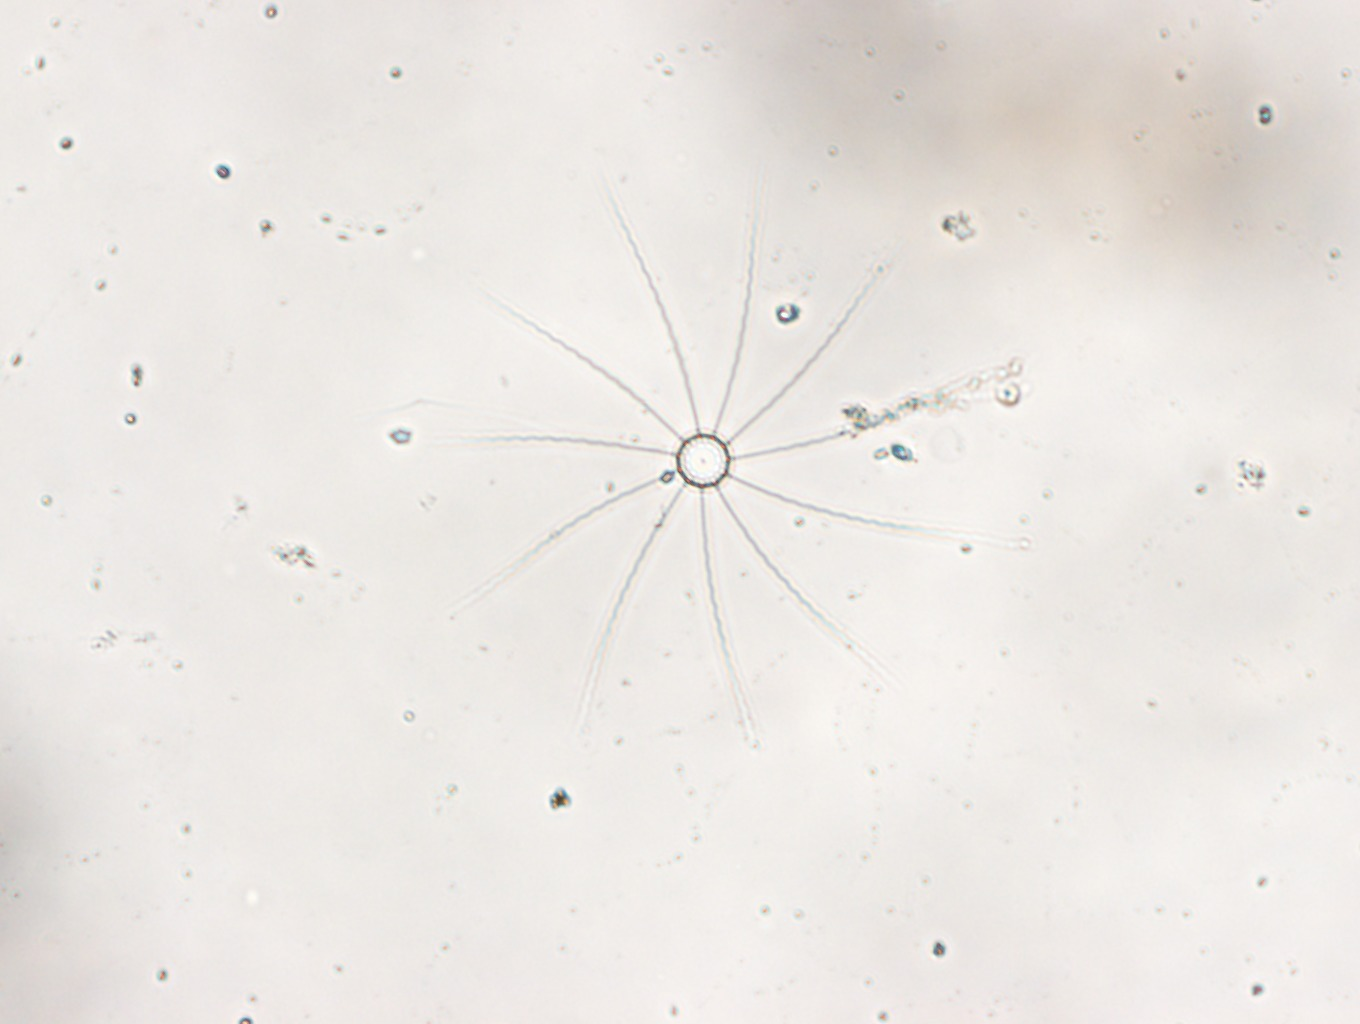bacteriastrum: (435, 168, 980, 758)
